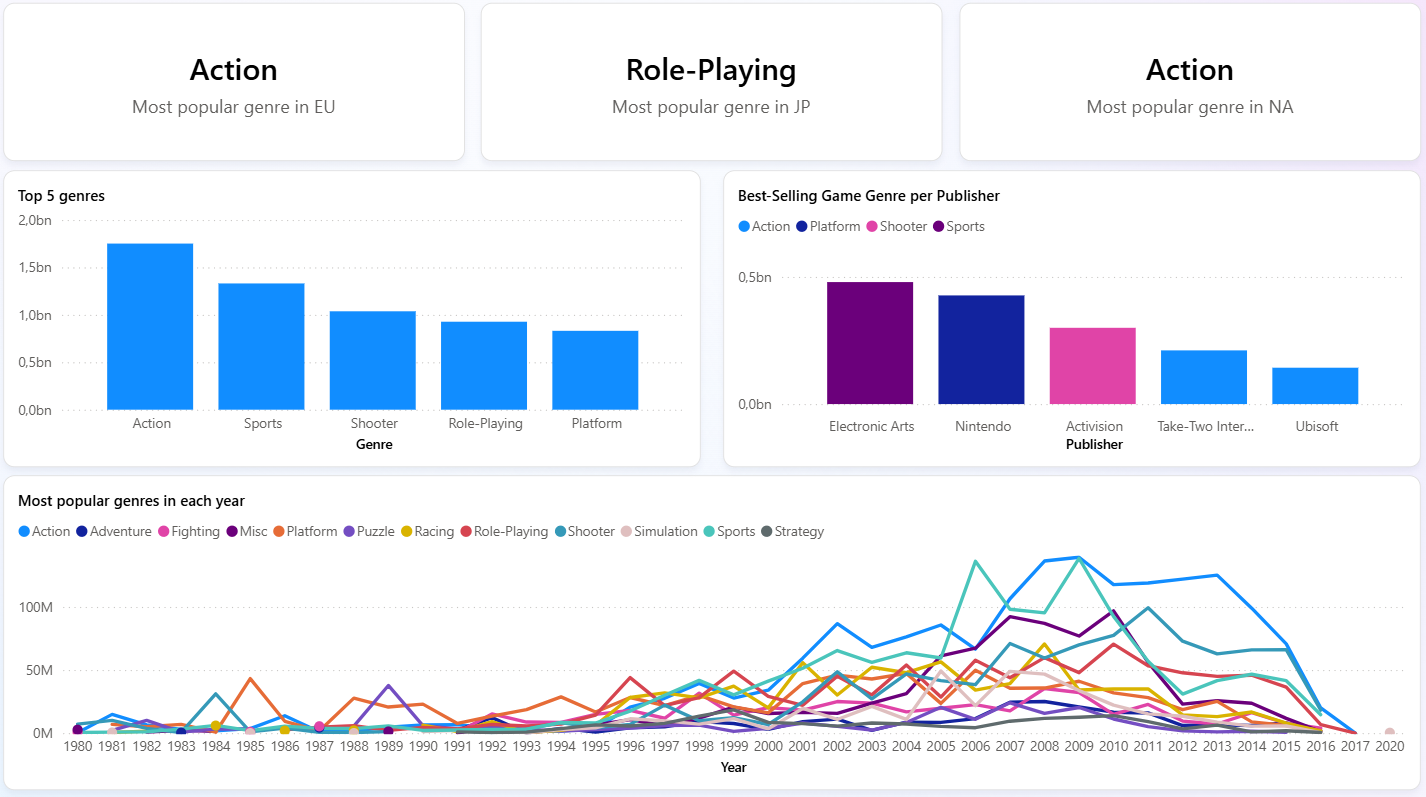

The dashboard page shown, as its layout file describes it:
{"tool":"powerbi","page":{"name":"Game Genres Analysis","canvas":[1280,720],"ordinal":2},"visuals":[{"type":"lineChart","title":"Most popular genres in each year","fields":{"Y":["Sum(vgsales.Global_Sales)"],"Category":["vgsales.Year"],"Series":["vgsales.Genre"]},"box":[10,428.2,1260,280],"z":0},{"type":"columnChart","title":"Top 5 genres","fields":{"Category":["vgsales.Genre"],"Y":["Sum(vgsales.Global_Sales)"]},"box":[10,156.4,620,263.6],"z":1},{"type":"columnChart","title":"Best-Selling Game Genre per Publisher","fields":{"Category":["TopSellingGenresByPublisher.Publisher"],"Y":["Sum(TopSellingGenresByPublisher.Global Sales)"],"Series":["TopSellingGenresByPublisher.Genre"]},"box":[650,156.4,620,263.6],"z":2},{"type":"card","fields":{"Values":["vgsales.TopGenre_EU"]},"box":[10,7.3,410,140.9],"z":3},{"type":"card","fields":{"Values":["vgsales.TopGenre_JP"]},"box":[434.5,7.3,410,140.9],"z":4},{"type":"card","fields":{"Values":["vgsales.TopGenre_NA"]},"box":[860,7.3,410,140.9],"z":5}]}

Visuals, with their boxes in screenshot pixels (x1, y1, x2, y2), scaled from the page's 1280x720 canvas onto the 1426x797 screenshot:
"Most popular genres in each year" lineChart: bbox=[11, 474, 1415, 784]
"Top 5 genres" columnChart: bbox=[11, 173, 702, 465]
"Best-Selling Game Genre per Publisher" columnChart: bbox=[724, 173, 1415, 465]
card - vgsales.TopGenre_EU: bbox=[11, 8, 468, 164]
card - vgsales.TopGenre_JP: bbox=[484, 8, 941, 164]
card - vgsales.TopGenre_NA: bbox=[958, 8, 1415, 164]
